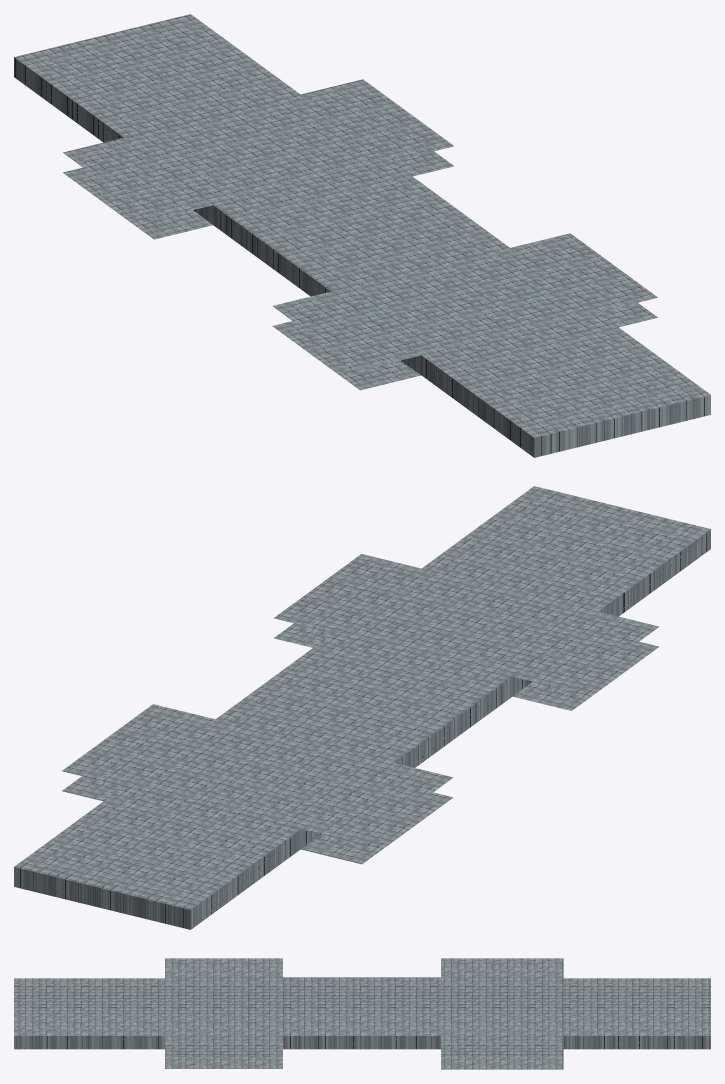
The model's file is LookoutFloor.fbx.
3 views of the same model, one above another, from view 1: azimuth 30°, elevation 25°; view 2: azimuth 150°, elevation 25°; view 3: azimuth 270°, elevation 25° (orthographic). The views are drawn at different scales.
Visible parts, largest first — view 1: LookoutFloor.001; view 2: LookoutFloor.001; view 3: LookoutFloor.001.
Part boxes in pixels (left/top/right/bottom): LookoutFloor.001: left=14, top=14, right=710, bottom=457; LookoutFloor.001: left=14, top=486, right=710, bottom=929; LookoutFloor.001: left=14, top=958, right=710, bottom=1069.
Bounding box in the file's own units: 31.47 × 2 × 94.36.
